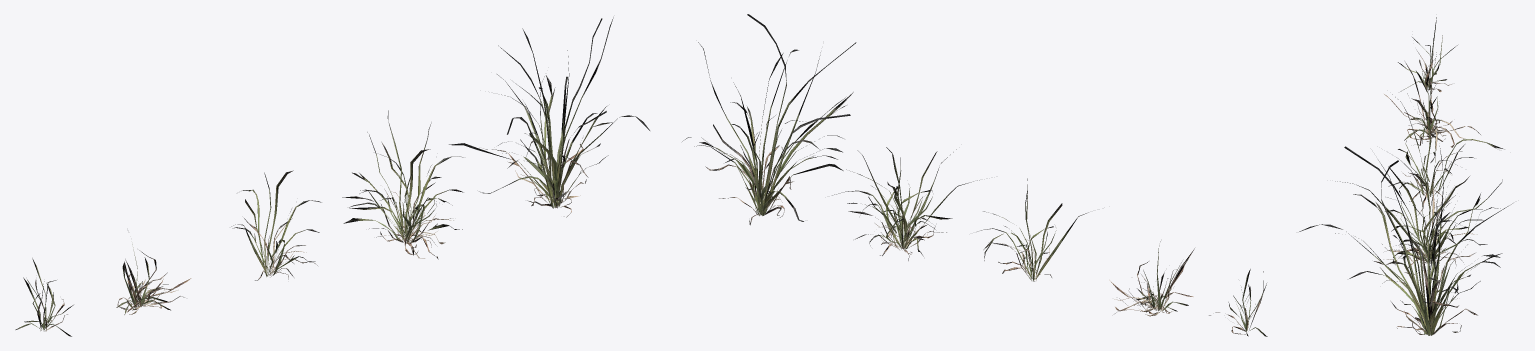
File: grass_medium_02_2k.glb
3 views of the same model, side by side, from view 1: azimuth 30°, elevation 25°; view 2: azimuth 150°, elevation 25°; view 3: azimuth 270°, elevation 25° (orthographic). The views are drawn at different scales.
Parts seen in each view (by area): view 1: grass_medium_02_a; view 2: grass_medium_02_a; view 3: grass_medium_02_a.
Part boxes in pixels (box(x1,y1,x2,y2)): grass_medium_02_a: box(15, 17, 649, 336); grass_medium_02_a: box(682, 14, 1267, 336); grass_medium_02_a: box(1299, 17, 1512, 335).
Size of the model in its own units: 1.31 by 0.4049 by 0.4319.
Materials: 1 (1 with a texture image).
